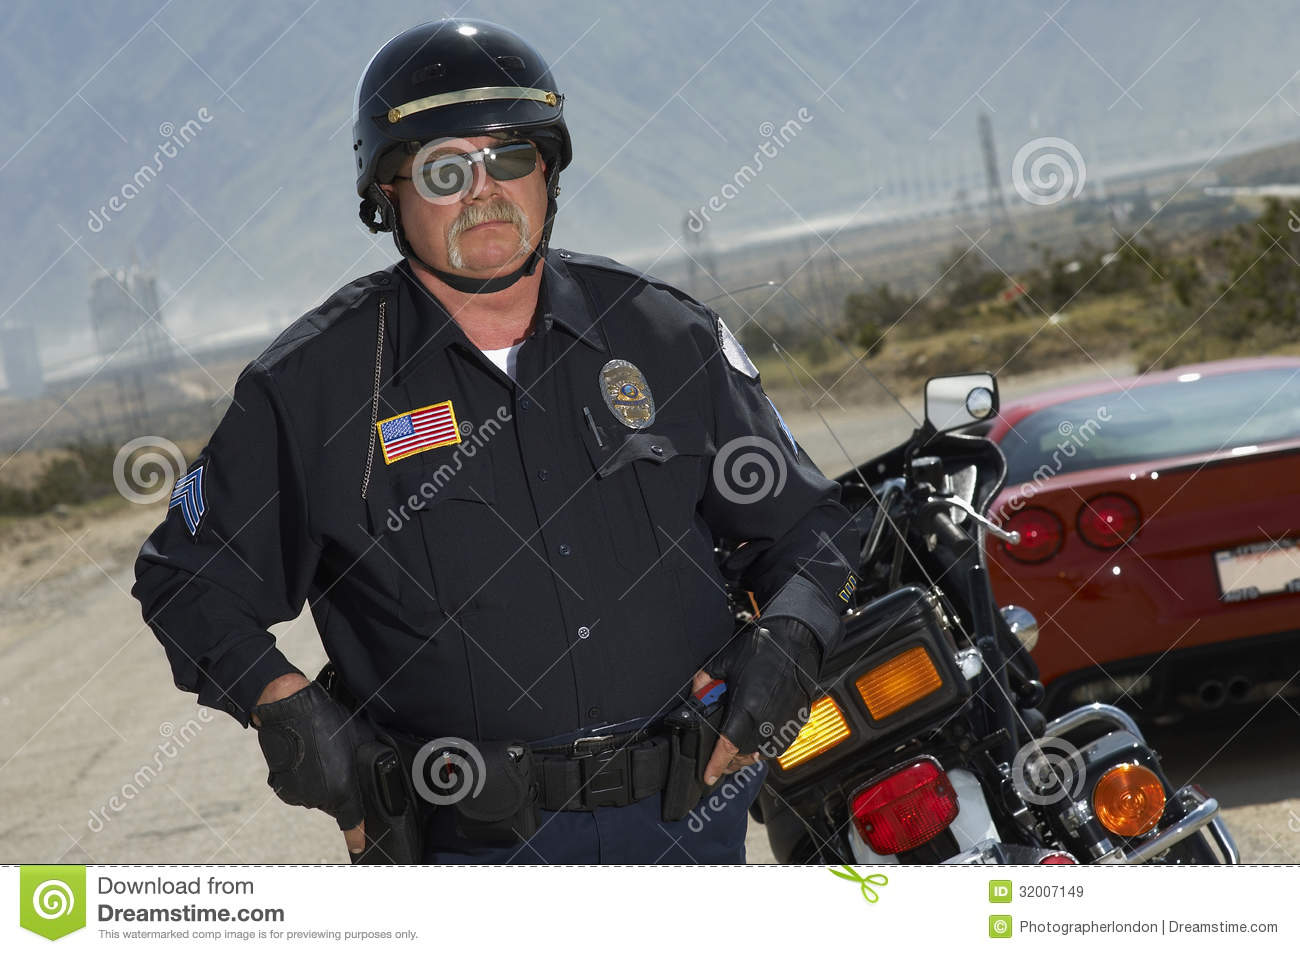helmet: (330, 21, 580, 183)
